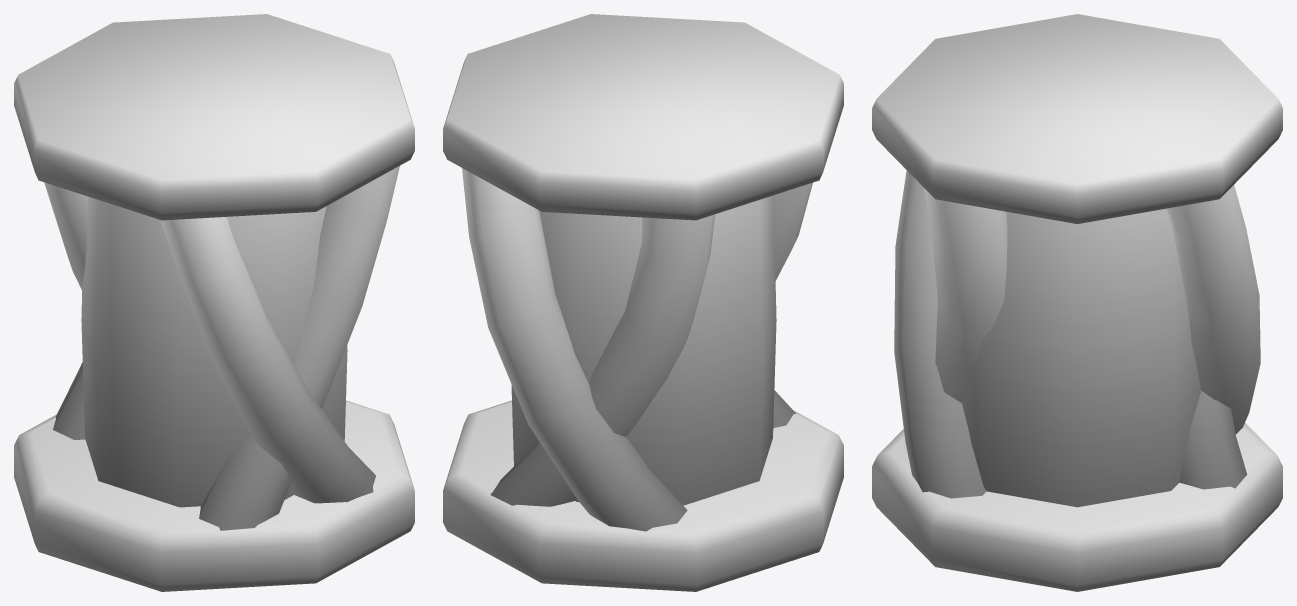
File: stone_grip_052.glb
The picture shows the model from 3 angles, left to right: view 1: azimuth 30°, elevation 25°; view 2: azimuth 150°, elevation 25°; view 3: azimuth 270°, elevation 25°; orthographic projection.
Visible parts, largest first — view 1: stone_grip.052; view 2: stone_grip.052; view 3: stone_grip.052.
Part boxes in pixels (bbox=[...]): stone_grip.052: bbox=[14, 14, 414, 591]; stone_grip.052: bbox=[443, 14, 843, 591]; stone_grip.052: bbox=[872, 14, 1282, 591].
Bounding box in the file's own units: 2.89 × 3.2 × 2.89.
1 material, 1 textured.
